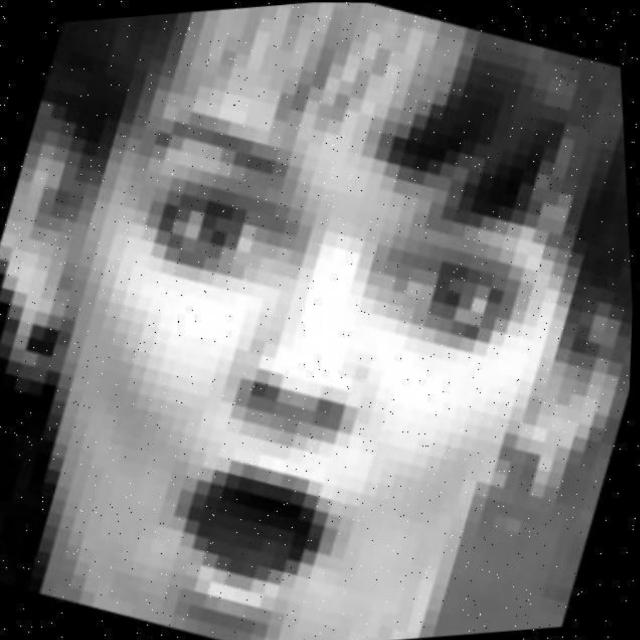Surprised: (33, 53, 640, 640)
